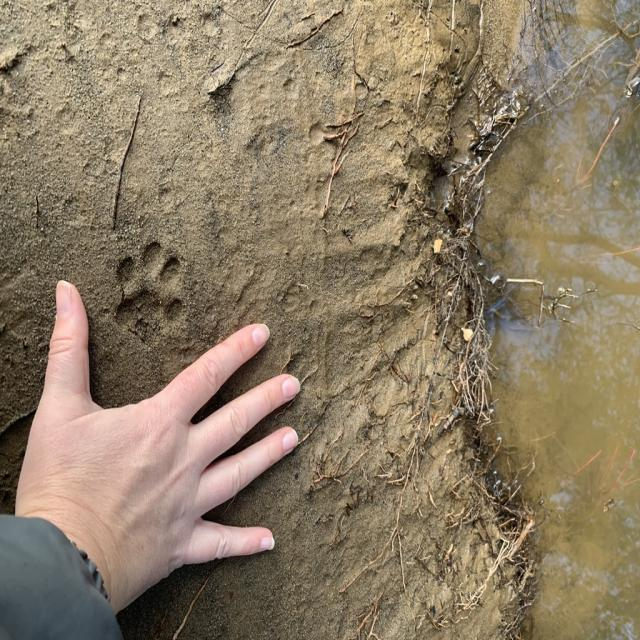felid: (117, 240, 185, 340)
